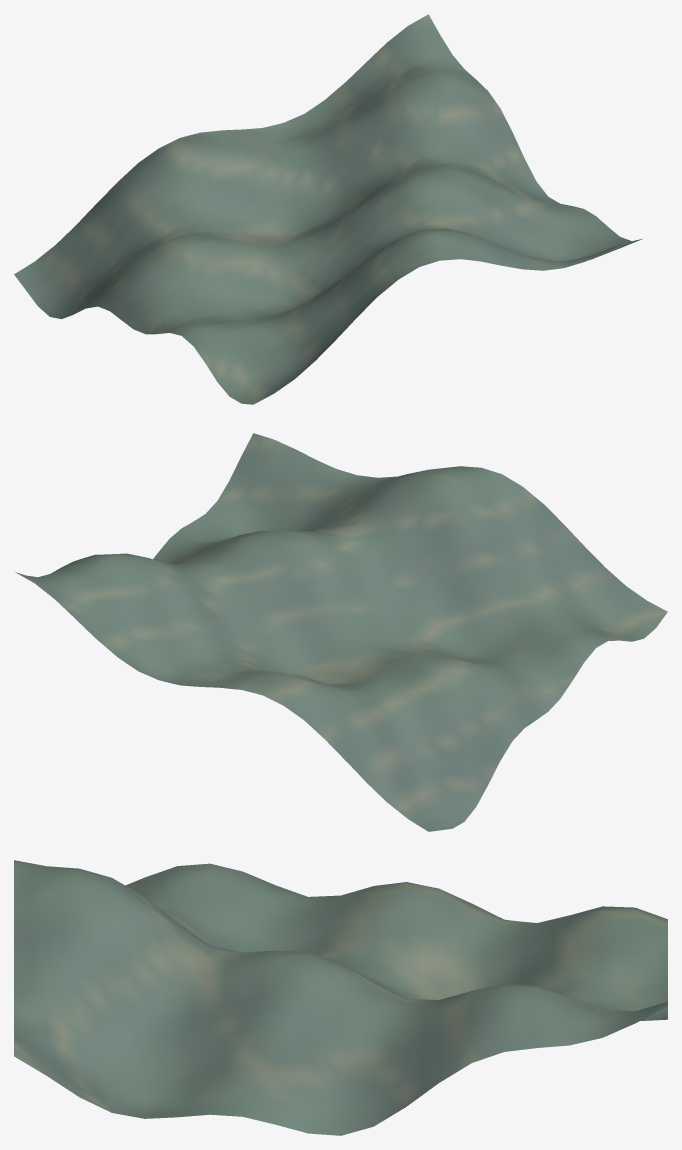
The model's file is ridge_1_-3.glb.
3 renders of one model, top to bottom at view 1: azimuth 30°, elevation 25°; view 2: azimuth 150°, elevation 25°; view 3: azimuth 270°, elevation 25°, orthographic. The views are drawn at different scales.
Bounding box in the file's own units: 220 × 88.88 × 220.
